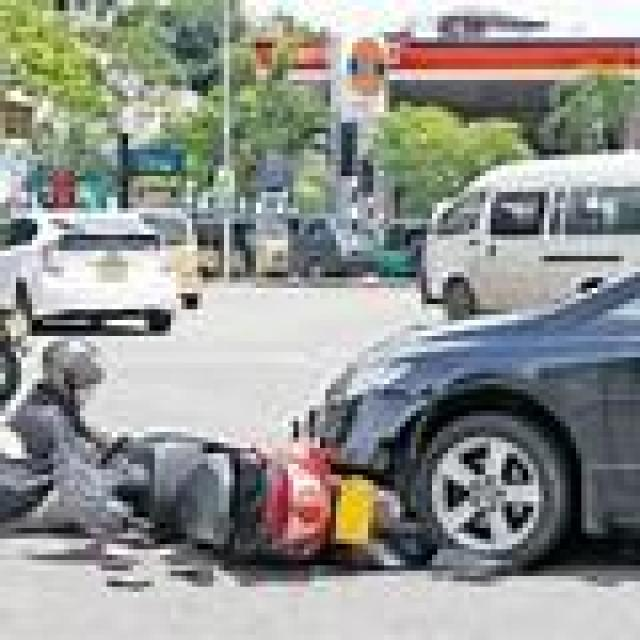Nguy hiểm: (0, 294, 640, 598)
